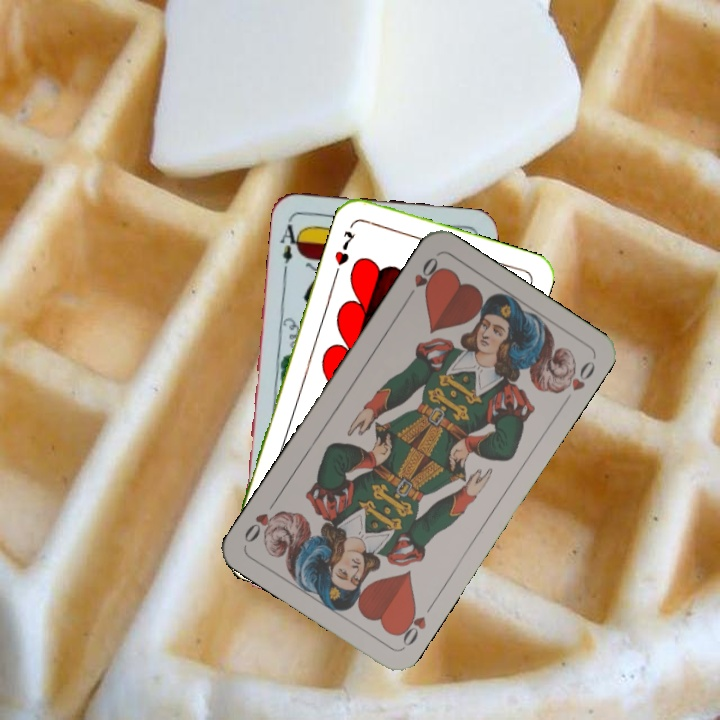EA: (275, 214, 304, 273)
H7: (330, 227, 358, 268)
HO: (392, 598, 437, 649), (401, 253, 444, 304)
